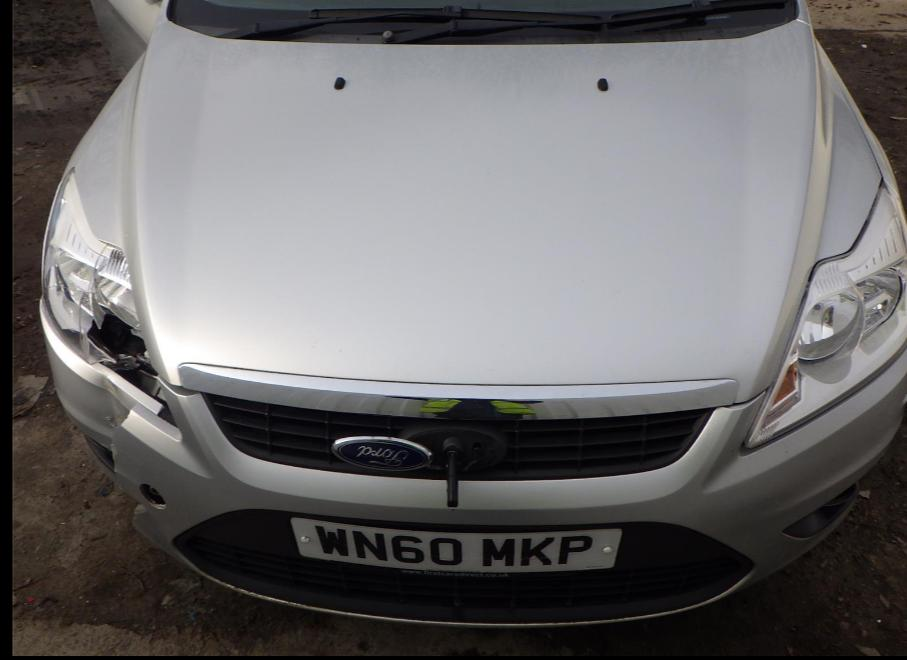Broken part: (35, 298, 200, 534), (43, 170, 162, 392), (333, 430, 498, 470)
Missing part: (139, 484, 165, 509)
